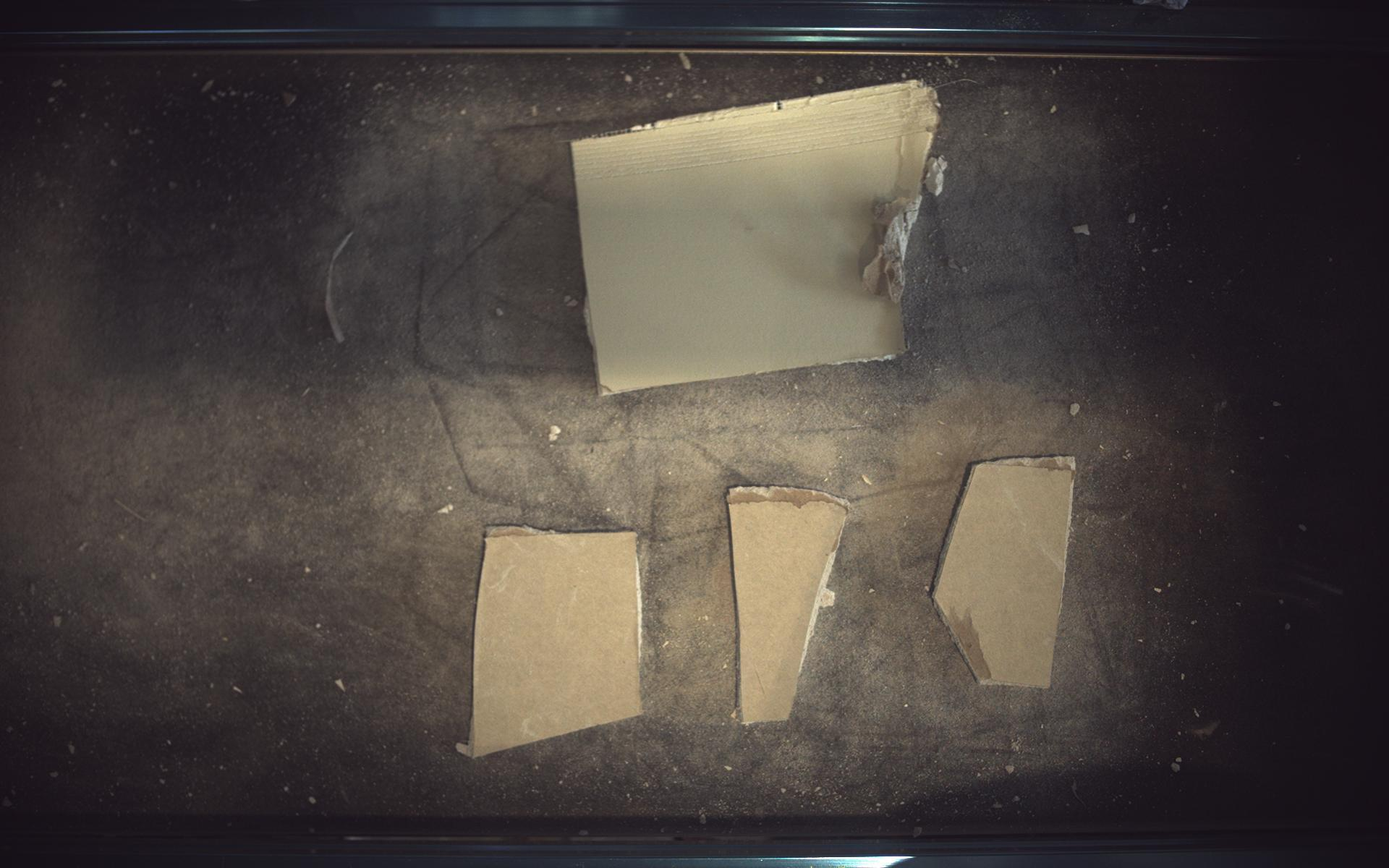gypsum_board: (572, 79, 944, 394), (459, 527, 642, 759), (934, 456, 1078, 689), (727, 486, 850, 725)
